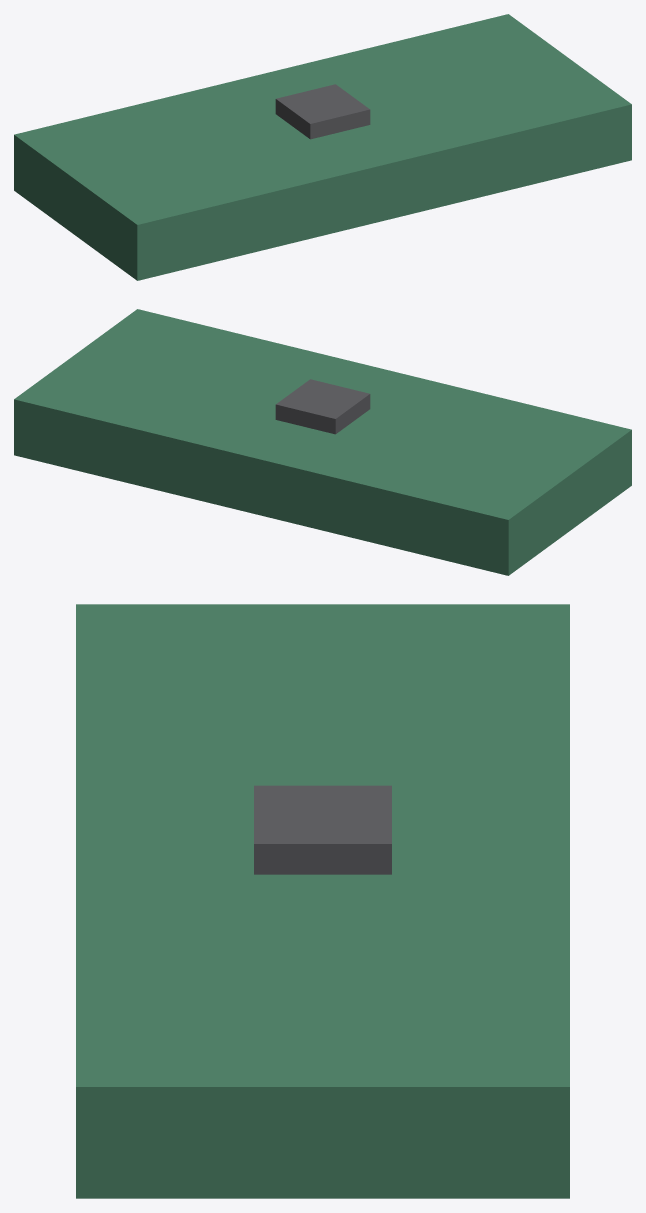
3 renders of one model, top to bottom at view 1: azimuth 30°, elevation 25°; view 2: azimuth 150°, elevation 25°; view 3: azimuth 270°, elevation 25°, orthographic. The views are drawn at different scales.
Parts seen in each view (by area): view 1: hc05-pcb, hc05-ic; view 2: hc05-pcb, hc05-ic; view 3: hc05-pcb, hc05-ic.
Part boxes in pixels (<box>): hc05-pcb: <box>14,14,631,280</box>; hc05-ic: <box>275,84,370,139</box>; hc05-pcb: <box>14,309,631,575</box>; hc05-ic: <box>275,379,370,434</box>; hc05-pcb: <box>76,604,569,1198</box>; hc05-ic: <box>254,785,391,874</box>.
Bounding box in the file's own units: 0.037 × 0.0051 × 0.016.
